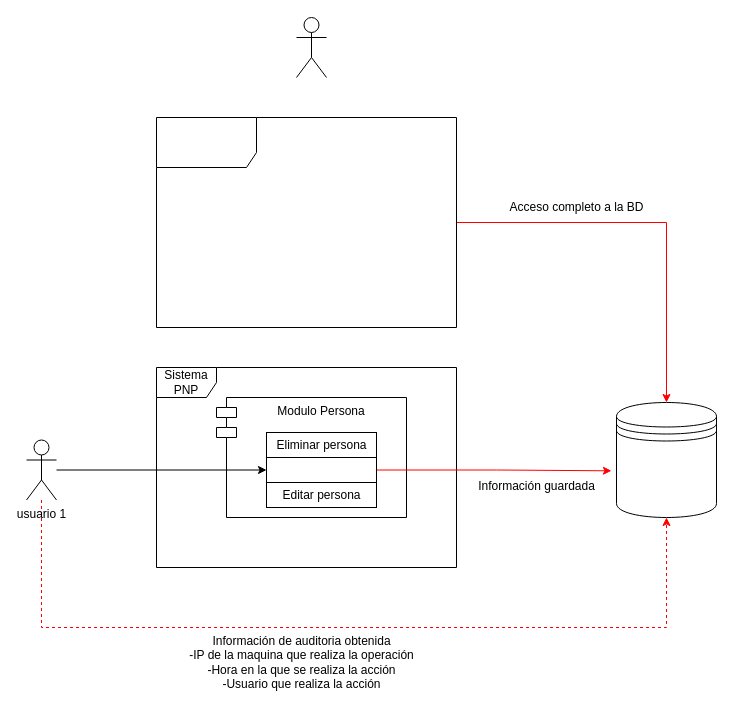
Image size: 734x715. Some labels were removed from this diagram. The shapes that lost their labels are listed below. From the top down, each one's centre as x and y in pixels, then its label:
At (311,47): "usuario administrador".
At (306,222): "Sistema PNP - Modo administrador".
At (321,469): "Agregar persona".
